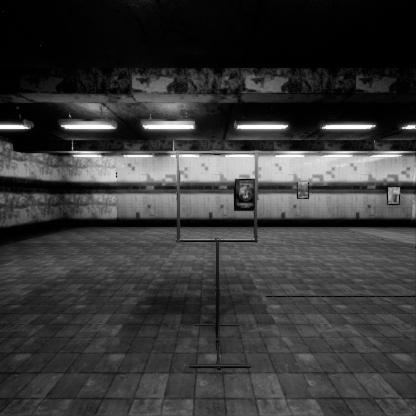gate: (176, 173, 266, 265)
